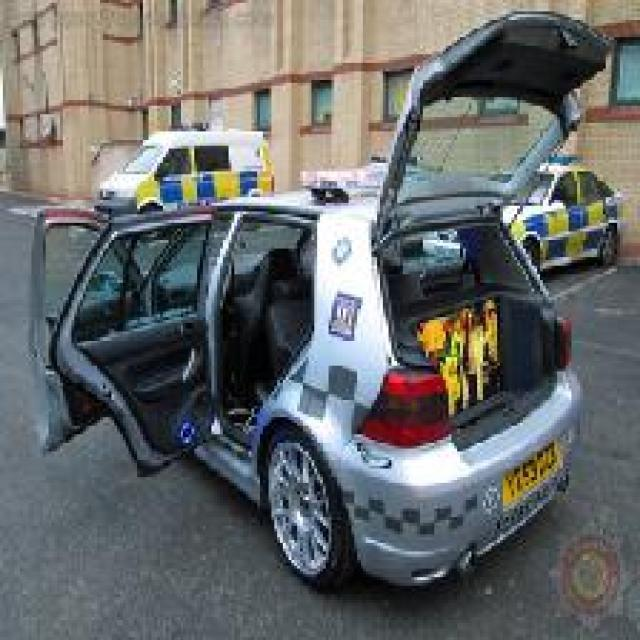emergency: (99, 188, 586, 594), (460, 148, 624, 280), (92, 122, 278, 225)
